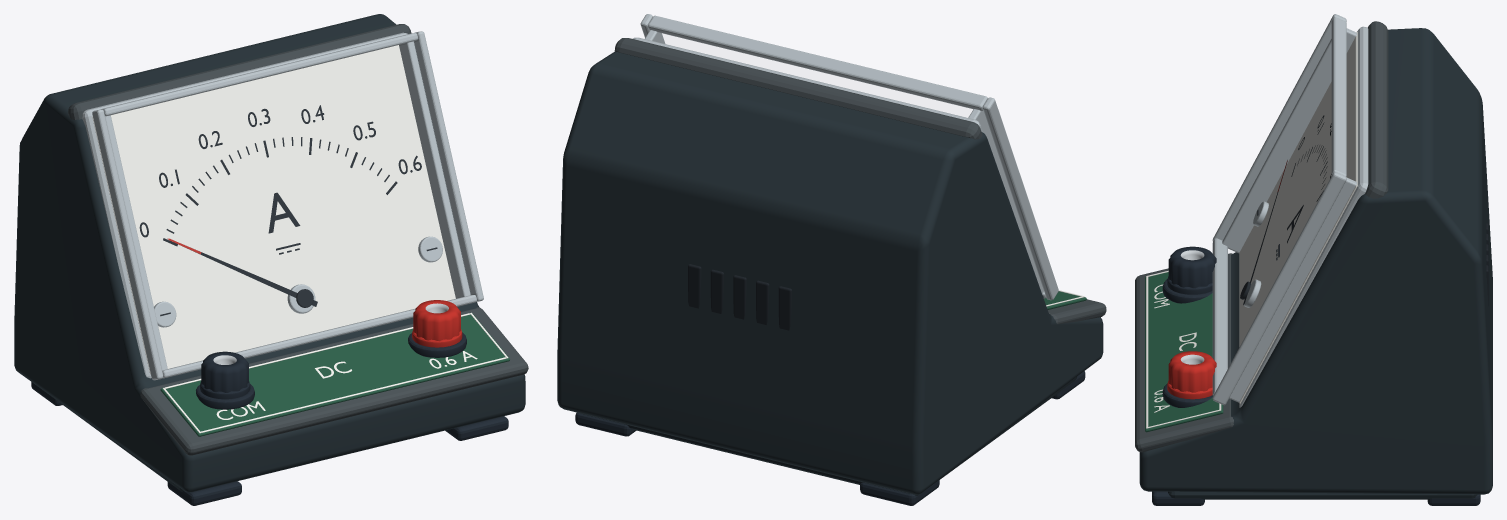
Rendered from analog-ammeter.glb.
3 renders of one model, left to right at view 1: azimuth 30°, elevation 25°; view 2: azimuth 150°, elevation 25°; view 3: azimuth 270°, elevation 25°, orthographic. The views are drawn at different scales.
Visible parts, largest first — view 1: Pale printed scale plate, One-piece tapered meter shell, Green laminate terminal board, Molded terminal shelf, Face window spacing rib.001, Meter head sealing rim, Polished window edge, Polished window edge.001, Dial plate backing, Polished window edge.003, Polished window edge.002, p binding socket (+8 smaller); view 2: One-piece tapered meter shell, Meter head sealing rim, Polished window edge.003, Polished window edge, Recessed bottom cover, Dial plate backing, Face window spacing rib, Molded terminal shelf, Rubber foot.001, Rubber foot.003; view 3: One-piece tapered meter shell, Pale printed scale plate, Green laminate terminal board, Face window spacing rib, Polished window edge.001, Molded terminal shelf, Meter head sealing rim, Dial plate backing, Face window spacing rib.001, Polished window edge, Polished window edge.003, Polished window edge.002 (+8 smaller).
Boxes of the visible parts, bbox=[...] form: Pale printed scale plate: bbox=[92, 45, 455, 374]; One-piece tapered meter shell: bbox=[14, 14, 525, 492]; Green laminate terminal board: bbox=[160, 313, 509, 436]; Molded terminal shelf: bbox=[140, 307, 528, 455]; Face window spacing rib.001: bbox=[399, 41, 470, 298]; Meter head sealing rim: bbox=[68, 24, 411, 120]; Polished window edge: bbox=[92, 109, 163, 380]; Polished window edge.001: bbox=[414, 31, 483, 301]; Dial plate backing: bbox=[82, 32, 407, 378]; Polished window edge.003: bbox=[100, 33, 418, 116]; Polished window edge.002: bbox=[162, 295, 476, 378]; p binding socket: bbox=[413, 300, 460, 341]; One-piece tapered meter shell: bbox=[557, 51, 1103, 494]; Meter head sealing rim: bbox=[614, 38, 982, 139]; Polished window edge.003: bbox=[648, 15, 987, 110]; Polished window edge: bbox=[982, 97, 1058, 300]; Recessed bottom cover: bbox=[583, 377, 1076, 495]; Dial plate backing: bbox=[633, 37, 982, 132]; Face window spacing rib: bbox=[968, 109, 1043, 294]; Molded terminal shelf: bbox=[1048, 299, 1106, 324]; Rubber foot.001: bbox=[860, 480, 939, 505]; Rubber foot.003: bbox=[575, 412, 636, 436]; One-piece tapered meter shell: bbox=[1139, 28, 1492, 494]; Pale printed scale plate: bbox=[1239, 32, 1357, 403]; Green laminate terminal board: bbox=[1145, 272, 1223, 432]; Face window spacing rib: bbox=[1222, 28, 1356, 253]; Polished window edge.001: bbox=[1212, 172, 1346, 405]; Molded terminal shelf: bbox=[1135, 253, 1233, 452]; Meter head sealing rim: bbox=[1365, 21, 1388, 198]; Dial plate backing: bbox=[1239, 26, 1368, 407]; Face window spacing rib.001: bbox=[1229, 177, 1356, 402]; Polished window edge: bbox=[1212, 14, 1346, 241]; Polished window edge.003: bbox=[1331, 17, 1346, 176]; Polished window edge.002: bbox=[1212, 238, 1227, 395].
Size of the model in its own units: 0.113 by 0.1047 by 0.1013.
